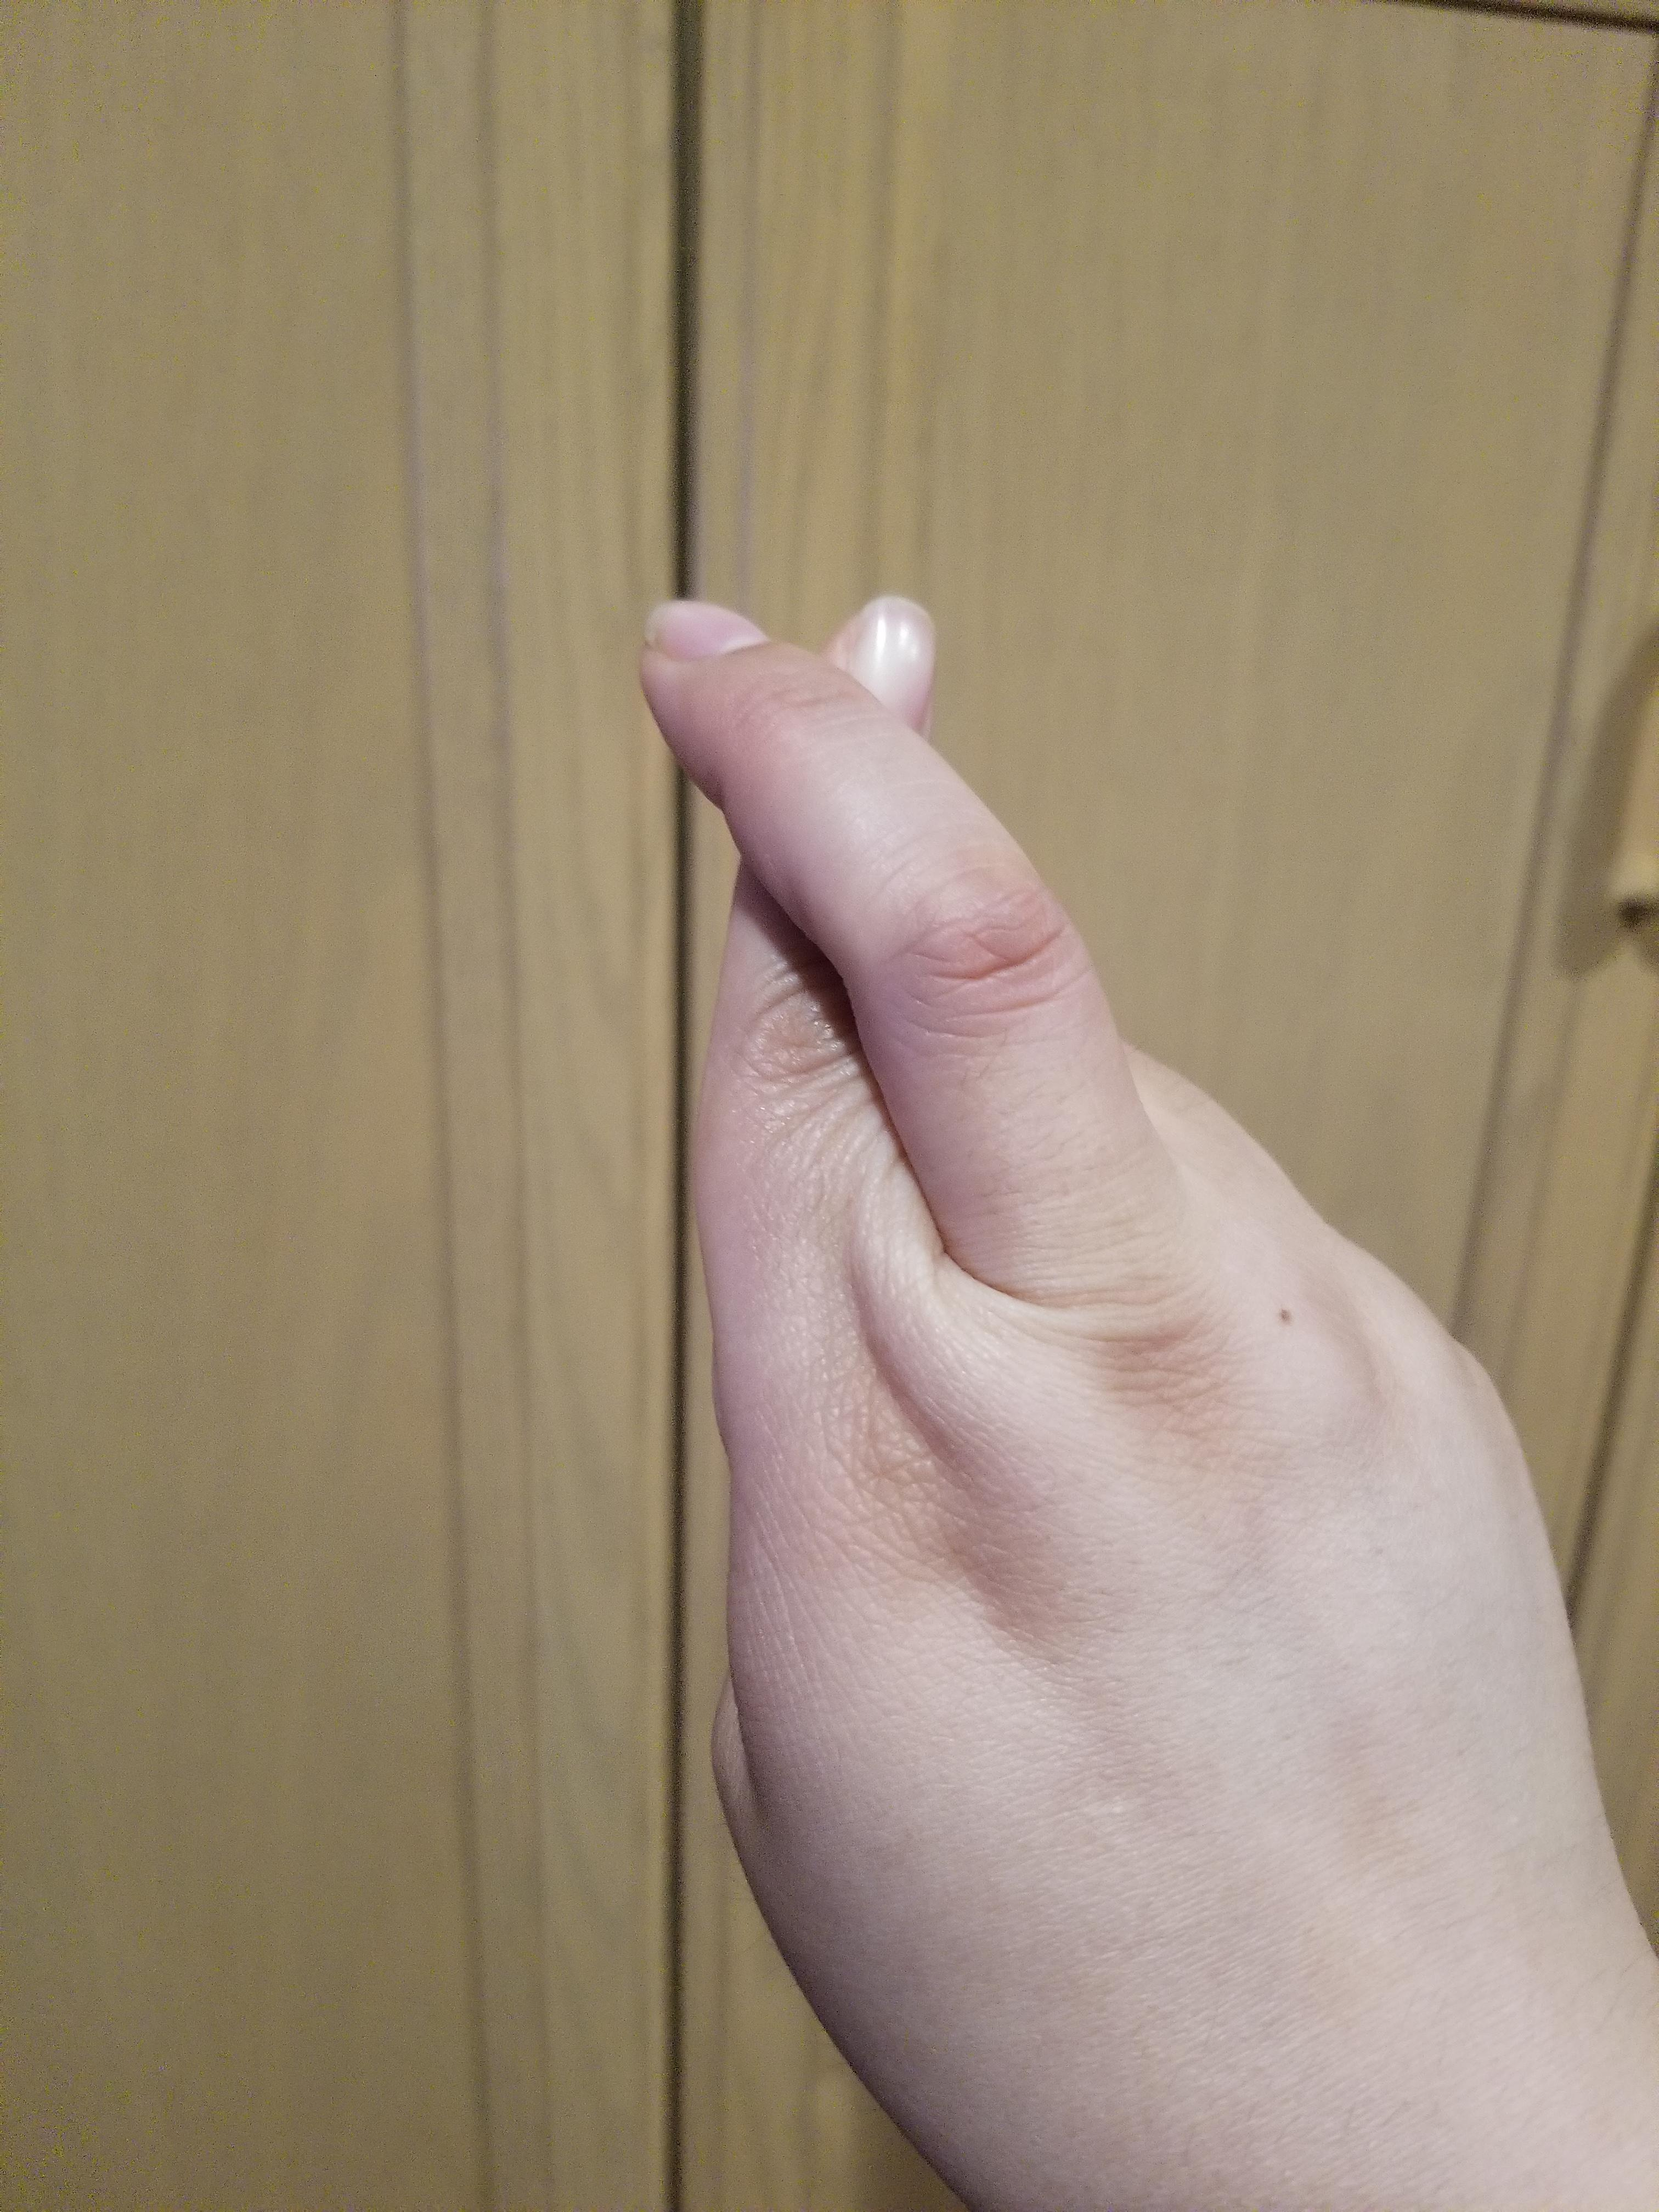R: (613, 573, 1638, 2212)
